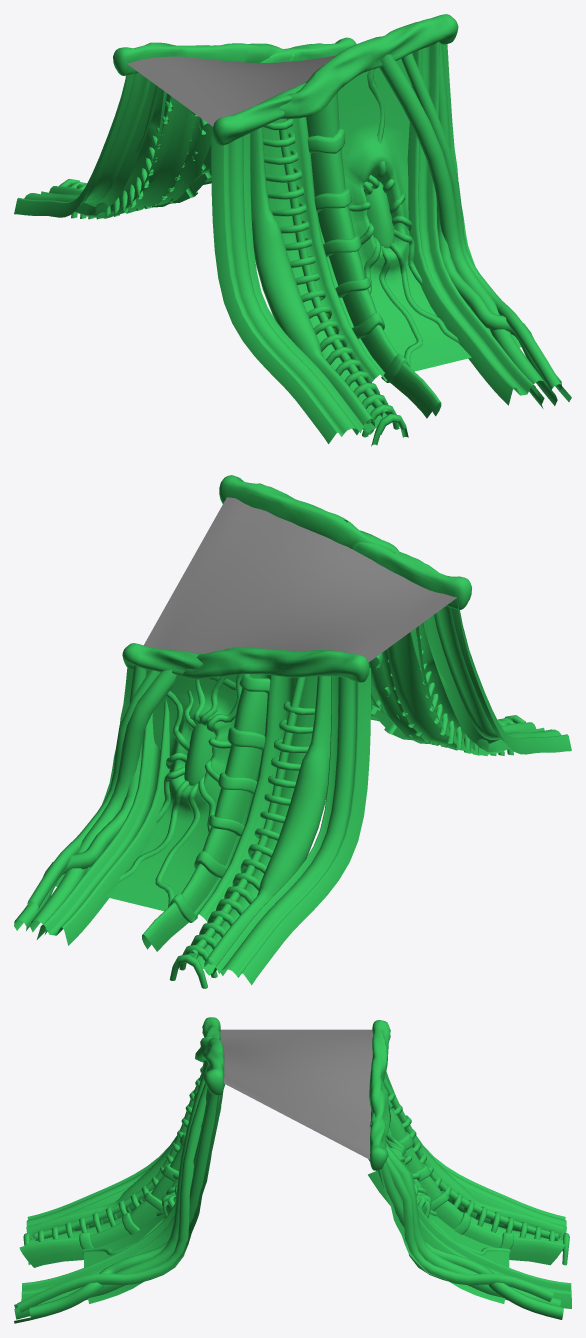
The model's file is Track_alien_12.fbx.
3 renders of one model, top to bottom at view 1: azimuth 30°, elevation 25°; view 2: azimuth 150°, elevation 25°; view 3: azimuth 270°, elevation 25°, orthographic. The views are drawn at different scales.
Visible parts, largest first — view 1: Side_Rock_011, Road_013; view 2: Side_Rock_011, Road_013; view 3: Side_Rock_011, Road_013.
Part boxes in pixels (x1,y1,x2,y2): Side_Rock_011: (14, 14, 571, 446); Road_013: (127, 55, 335, 126); Side_Rock_011: (14, 475, 571, 988); Road_013: (143, 497, 456, 662); Side_Rock_011: (14, 1017, 571, 1323); Road_013: (220, 1029, 373, 1159).
Size of what is drawn, in the model's own units: 3398 by 7700 by 3903.
